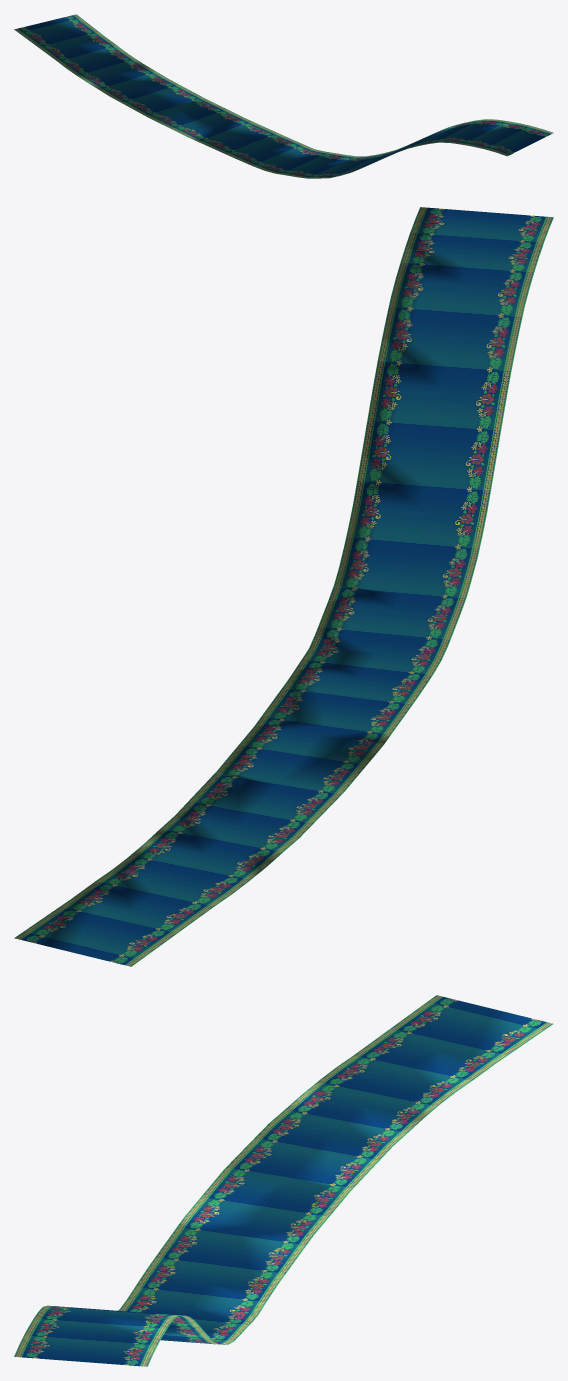
3 renders of one model, top to bottom at view 1: azimuth 30°, elevation 25°; view 2: azimuth 150°, elevation 25°; view 3: azimuth 330°, elevation 25°, orthographic. The views are drawn at different scales.
Visible parts, largest first — view 1: CollisionMesh; view 2: CollisionMesh; view 3: CollisionMesh.
Boxes of the visible parts, x1,y1,x2,y2 form: CollisionMesh: [14, 14, 553, 178]; CollisionMesh: [14, 207, 553, 966]; CollisionMesh: [14, 995, 553, 1366].
Size of the model in its own units: 444 by 227 by 1426.
